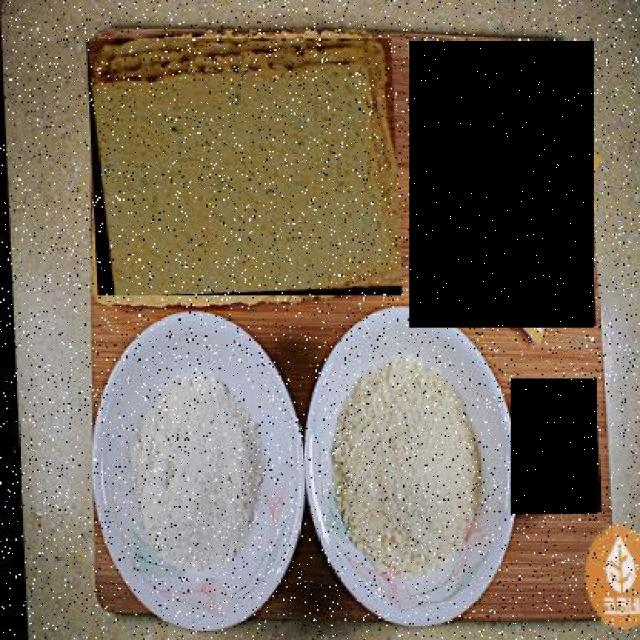Cheese: (409, 40, 594, 328)
Egg: (512, 378, 598, 514)
